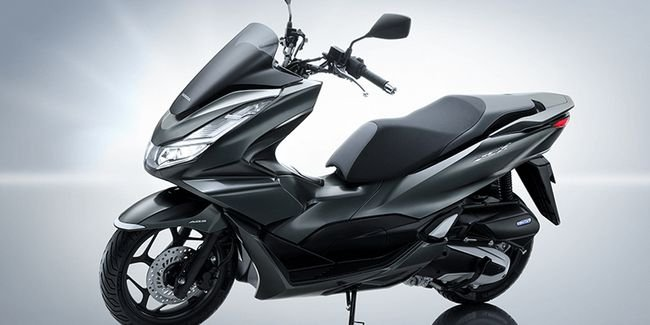motor: (90, 21, 578, 316)
